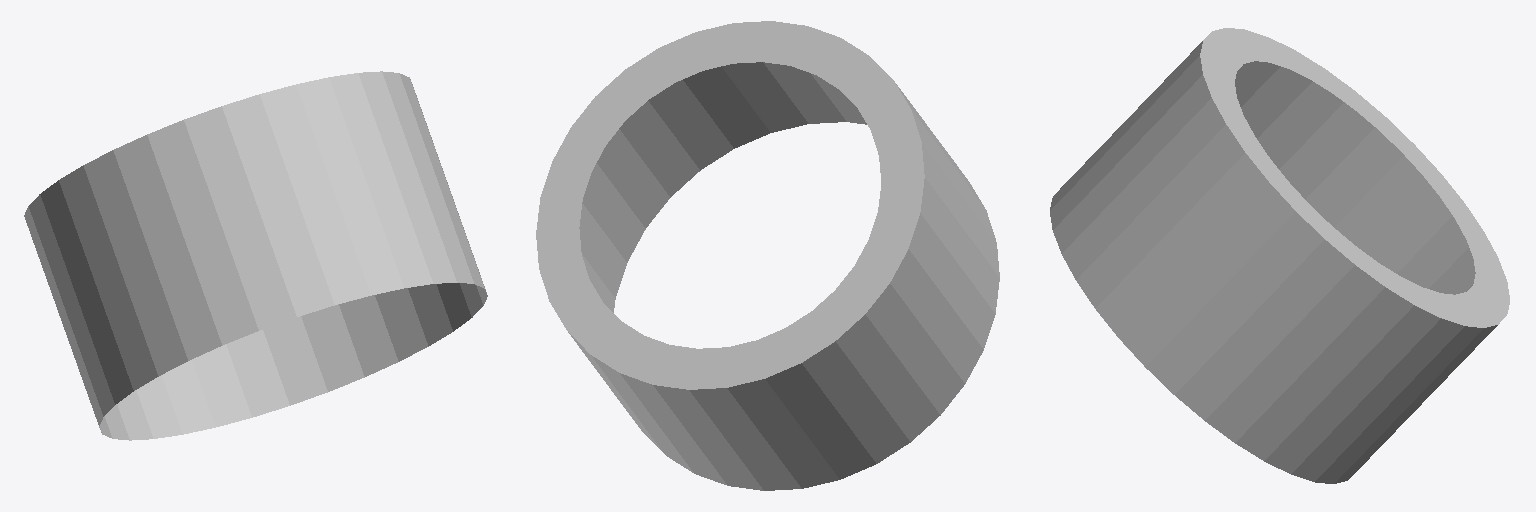
Rendered from EngineBody9.obj.
The picture shows the model from 3 angles: view 1: azimuth 30°, elevation 25°; view 2: azimuth 150°, elevation 25°; view 3: azimuth 270°, elevation 25°; orthographic projection.
Visible parts, largest first — view 1: EngineBody3_Cylinder.026; view 2: EngineBody3_Cylinder.026; view 3: EngineBody3_Cylinder.026.
Part boxes in pixels (bbox=[...]): EngineBody3_Cylinder.026: bbox=[24, 71, 487, 440]; EngineBody3_Cylinder.026: bbox=[536, 21, 999, 490]; EngineBody3_Cylinder.026: bbox=[1050, 28, 1509, 483].
Size of the model in its own units: 0.45 by 0.4843 by 0.5034.